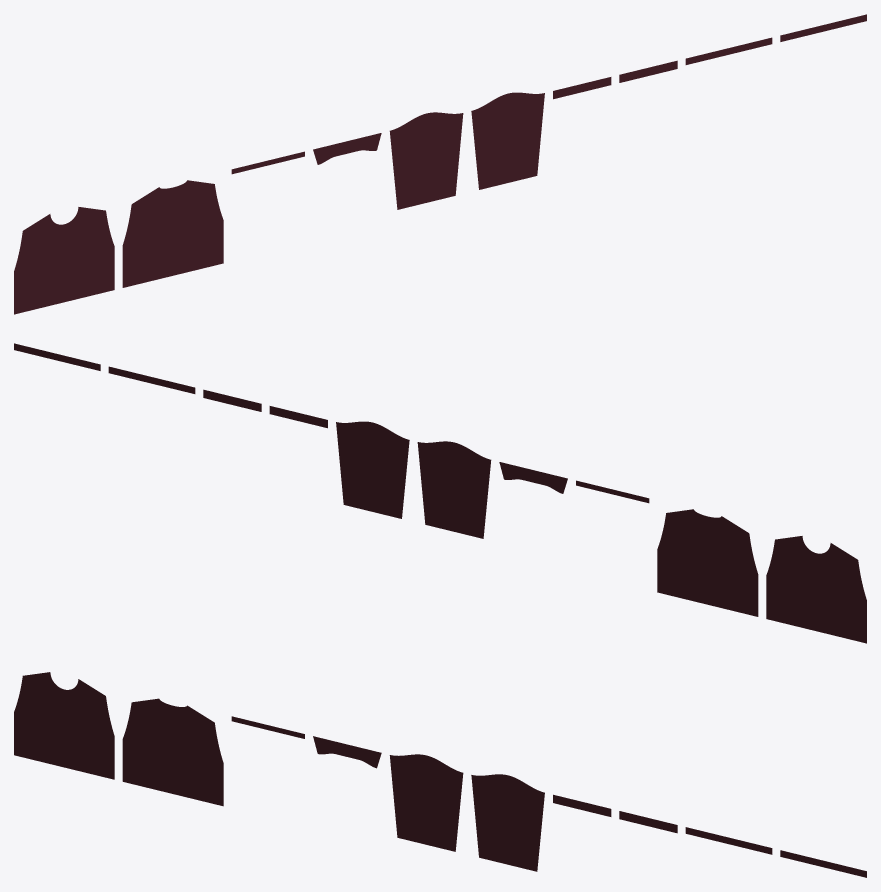
File: chaqueta-cuero-sintetico-vino-talla-XL.glb
The picture shows the model from 3 angles, top to bottom: view 1: azimuth 30°, elevation 25°; view 2: azimuth 150°, elevation 25°; view 3: azimuth 330°, elevation 25°; orthographic projection.
Visible parts, largest first — view 1: patron-espalda, patron-delantero, patron-manga-der, patron-manga-izq, patron-cuello-hoja, patron-banda-delantera, patron-banda-trasera; view 2: patron-espalda, patron-delantero, patron-manga-der, patron-manga-izq, patron-cuello-hoja, patron-banda-delantera, patron-banda-trasera; view 3: patron-espalda, patron-delantero, patron-manga-der, patron-manga-izq, patron-cuello-hoja, patron-banda-delantera, patron-banda-trasera, patron-puno-der, patron-puno-izq, patron-cuello-pie.
Boxes of the visible parts, <box> form: patron-espalda: <box>122,180,223,287</box>; patron-delantero: <box>14,207,114,314</box>; patron-manga-der: <box>471,92,544,189</box>; patron-manga-izq: <box>389,112,463,209</box>; patron-cuello-hoja: <box>313,133,381,164</box>; patron-banda-delantera: <box>685,37,772,64</box>; patron-banda-trasera: <box>780,14,866,41</box>; patron-espalda: <box>657,509,758,616</box>; patron-delantero: <box>766,536,866,643</box>; patron-manga-der: <box>336,421,409,518</box>; patron-manga-izq: <box>417,441,491,538</box>; patron-cuello-hoja: <box>499,462,567,493</box>; patron-banda-delantera: <box>108,366,195,393</box>; patron-banda-trasera: <box>14,343,100,370</box>; patron-espalda: <box>122,698,223,806</box>; patron-delantero: <box>14,672,114,779</box>; patron-manga-der: <box>471,774,544,871</box>; patron-manga-izq: <box>389,754,463,851</box>; patron-cuello-hoja: <box>313,736,381,768</box>; patron-banda-delantera: <box>685,827,772,854</box>; patron-banda-trasera: <box>780,850,866,877</box>; patron-puno-der: <box>619,811,677,833</box>; patron-puno-izq: <box>553,794,611,816</box>; patron-cuello-pie: <box>231,716,304,738</box>.
Bounding box in the file's own units: 5.33 × 0.6 × 0.
